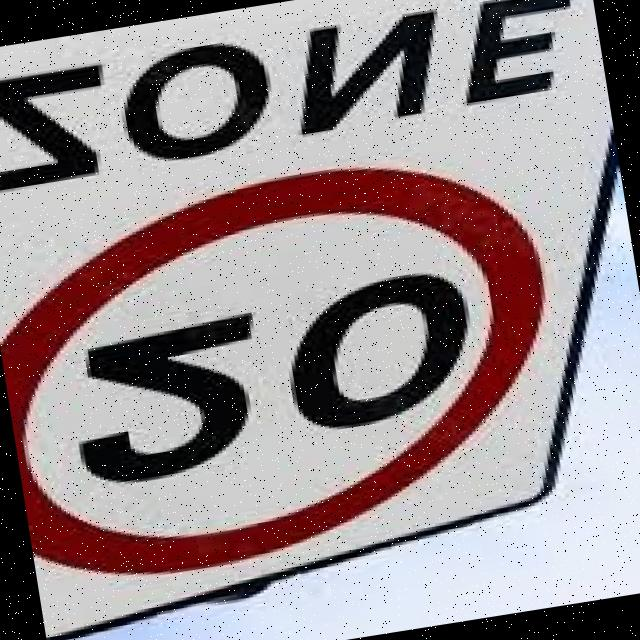speed_limit_20: (0, 142, 613, 617)
